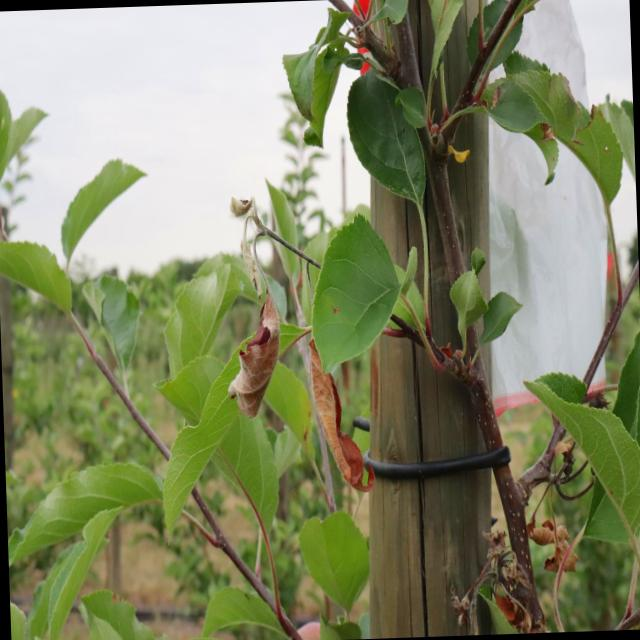-FireBlight-: (295, 318, 376, 492), (230, 204, 290, 437), (526, 470, 588, 586)
